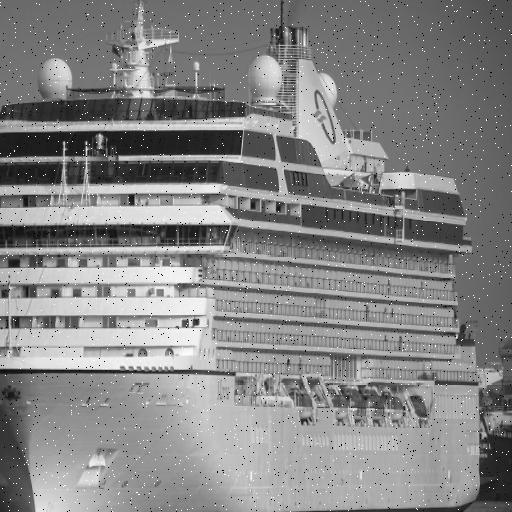cruises: (1, 1, 510, 512)
